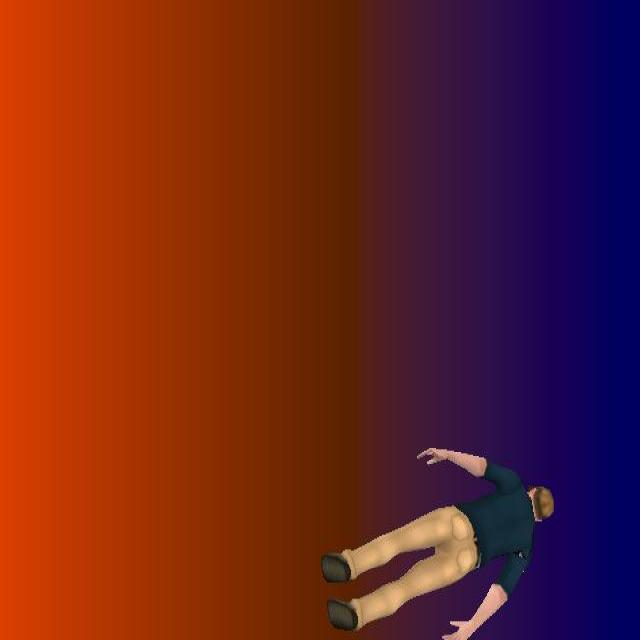obstacle: (317, 442, 556, 640)
